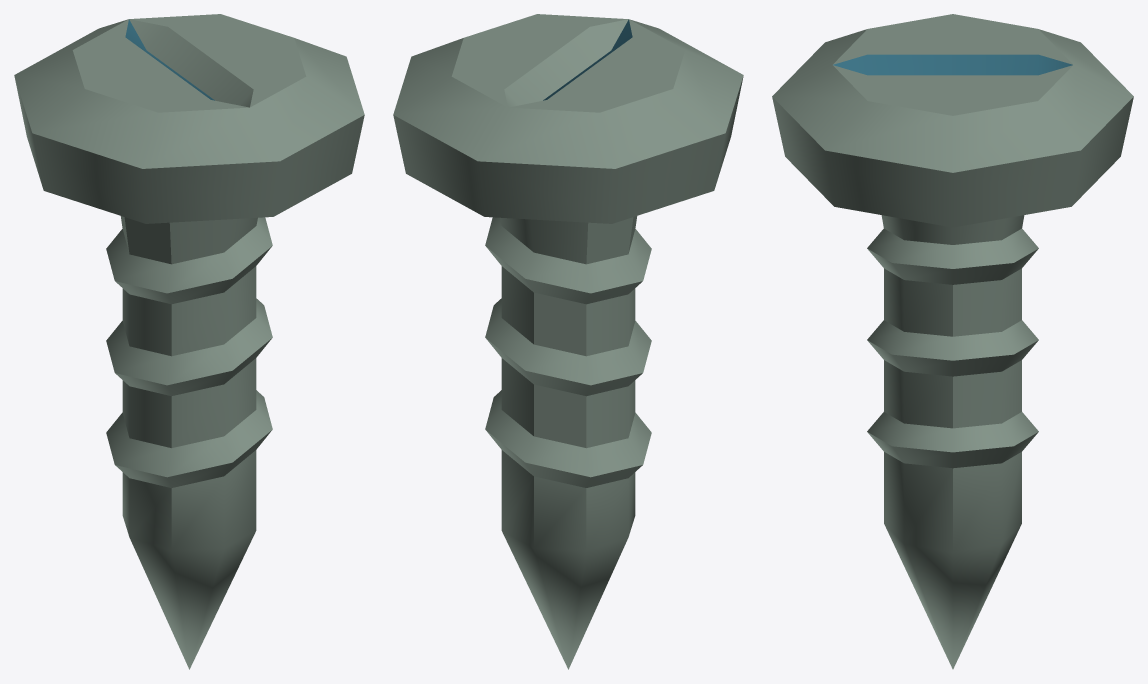
File: itch_kaykit_rpg_tools_screw_a.glb
3 views of the same model, side by side, from view 1: azimuth 30°, elevation 25°; view 2: azimuth 150°, elevation 25°; view 3: azimuth 270°, elevation 25° (orthographic).
Visible parts, largest first — view 1: screw_A; view 2: screw_A; view 3: screw_A.
Part boxes in pixels (x1=…): screw_A: x1=14, y1=14, x2=364, y2=669; screw_A: x1=393, y1=14, x2=743, y2=669; screw_A: x1=772, y1=14, x2=1133, y2=669.
Bounding box in the file's own units: 0.42 × 0.7746 × 0.42.
